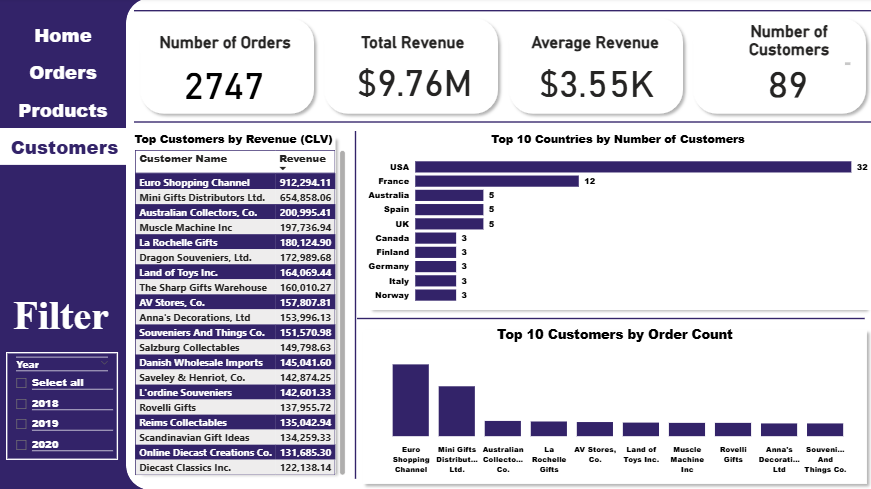

The dashboard page shown, as its layout file describes it:
{"tool":"powerbi","page":{"name":"Customers","canvas":[1280,720],"ordinal":2},"visuals":[{"type":"shape","box":[739.9,20.1,272.4,157.9],"z":0,"group":"g1"},{"type":"actionButton","box":[640,36.3,152.9,52],"z":0},{"type":"shape","box":[1009.2,20.1,270.9,157.9],"z":1000,"group":"g1"},{"type":"shape","box":[766.1,244.3,290,138.7],"z":1000},{"type":"shape","box":[0,0,933.3,719.7],"z":2000},{"type":"shape","box":[469,20.1,272.4,157.9],"z":2000,"group":"g1"},{"type":"shape","box":[187.3,0,1093.2,720],"z":3000},{"type":"shape","box":[199.7,20.1,272.4,157.9],"z":3000,"group":"g1"},{"type":"actionButton","box":[2.6,26.3,184.4,54.1],"z":4000},{"type":"textbox","title":"Number of Orders","box":[208.4,50.9,249.2,29.4],"z":4000,"group":"g1"},{"type":"actionButton","box":[2.6,81,184.4,54.1],"z":5000},{"type":"textbox","title":"Total Revenue","box":[489.1,51.1,249.2,29.4],"z":6000},{"type":"actionButton","box":[0,190.2,194.6,54.1],"z":7000},{"type":"actionButton","box":[2.6,135.6,184.4,54.1],"z":8000},{"type":"group","id":"g1","title":"Group 1","box":[199.7,20.1,1080.3,157.9],"z":9000},{"type":"card","fields":{"Values":["Orders.NumberOf Orders"]},"box":[230.6,85.1,198.1,74.3],"z":10000},{"type":"textbox","title":"Total Revenue","box":[489.1,51.1,236.8,29.4],"z":11000},{"type":"textbox","title":"Average Revenue","box":[760,51.1,229.1,29.4],"z":12000},{"type":"textbox","title":"Number of Customers","box":[1061.8,35.6,190.4,68.1],"z":13000},{"type":"card","fields":{"Values":["Orders.Total Revenue"]},"box":[501.5,85.1,215.1,65],"z":14000},{"type":"card","fields":{"Values":["Orders.AVG Sales"]},"box":[778.5,88.2,195,61.9],"z":15000},{"type":"card","fields":{"Values":["Customers.NumberOf Customers"]},"box":[1114.4,91.3,85.1,60.4],"z":16000},{"type":"shape","box":[199,36.6,1080,289.8],"z":17000},{"type":"shape","box":[199.7,0,1080.3,37.1],"z":18000},{"type":"shape","box":[198.8,195.3,303.4,509.2],"z":19000},{"type":"tableEx","title":"Top Customers by Revenue (CLV)","fields":{"Values":["Customers.Customer Name","Sum(Orders.Sales)"]},"box":[195.3,195.3,318.8,508.8],"z":20000},{"type":"shape","box":[373.2,194.6,300,509.3],"z":21000},{"type":"shape","box":[535.6,194.6,743.4,269.3],"z":22000},{"type":"clusteredBarChart","title":"Top 10 Countries by Number of Customers","fields":{"Category":["Customers.Country"],"Y":["CountNonNull(Customers.Customer Name)"]},"box":[535.6,194.6,743.4,262],"z":23000},{"type":"shape","box":[525.4,326.3,743.4,285.4],"z":24000},{"type":"shape","box":[525.4,477.1,755.1,242.9],"z":25000},{"type":"clusteredColumnChart","title":"Top 10 Customers by Order Count","fields":{"Category":["Customers.Customer Name"],"Y":["CountNonNull(Orders.Order Number)"]},"box":[535.4,477.8,734.2,226.7],"z":26000},{"type":"slicer","fields":{"Values":["Orders.Year"]},"box":[11.7,518,163.9,158],"z":26001},{"type":"textbox","box":[10.2,425.9,163.9,115.6],"z":26002}]}

Visuals, with their boxes in screenshot pixels (x1, y1, x2, y2), scaled from the page's 1280x720 canvas onto the 871x489 screenshot:
shape: region(503, 14, 689, 121)
actionButton: region(436, 25, 540, 60)
shape: region(687, 14, 870, 121)
shape: region(521, 166, 719, 260)
shape: region(0, 0, 635, 488)
shape: region(319, 14, 504, 121)
shape: region(127, 0, 870, 488)
shape: region(136, 14, 321, 121)
actionButton: region(2, 18, 127, 55)
"Number of Orders" textbox: region(142, 35, 311, 55)
actionButton: region(2, 55, 127, 92)
"Total Revenue" textbox: region(333, 35, 502, 55)
actionButton: region(0, 129, 132, 166)
actionButton: region(2, 92, 127, 129)
"Group 1" group: region(136, 14, 870, 121)
card - Orders.NumberOf Orders: region(157, 58, 292, 108)
"Total Revenue" textbox: region(333, 35, 494, 55)
"Average Revenue" textbox: region(517, 35, 673, 55)
"Number of Customers" textbox: region(723, 24, 852, 70)
card - Orders.Total Revenue: region(341, 58, 488, 102)
card - Orders.AVG Sales: region(530, 60, 662, 102)
card - Customers.NumberOf Customers: region(758, 62, 816, 103)
shape: region(135, 25, 870, 222)
shape: region(136, 0, 870, 25)
shape: region(135, 133, 342, 478)
"Top Customers by Revenue (CLV)" tableEx: region(133, 133, 350, 478)
shape: region(254, 132, 458, 478)
shape: region(364, 132, 870, 315)
"Top 10 Countries by Number of Customers" clusteredBarChart: region(364, 132, 870, 310)
shape: region(358, 222, 863, 415)
shape: region(358, 324, 870, 488)
"Top 10 Customers by Order Count" clusteredColumnChart: region(364, 325, 864, 478)
slicer - Orders.Year: region(8, 352, 119, 459)
textbox: region(7, 289, 118, 368)
